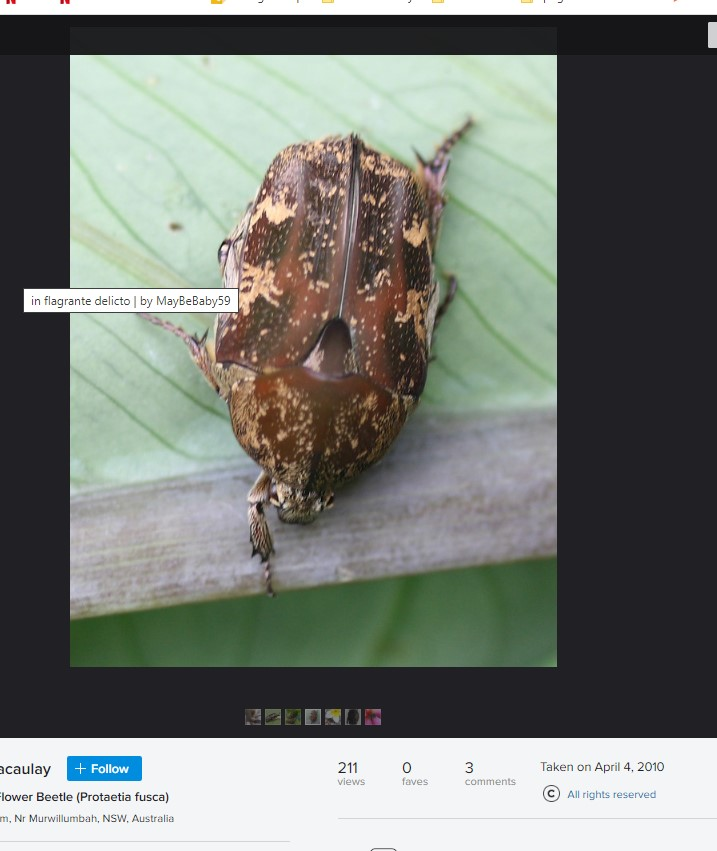Protaetia_fusca: (147, 109, 486, 596)
